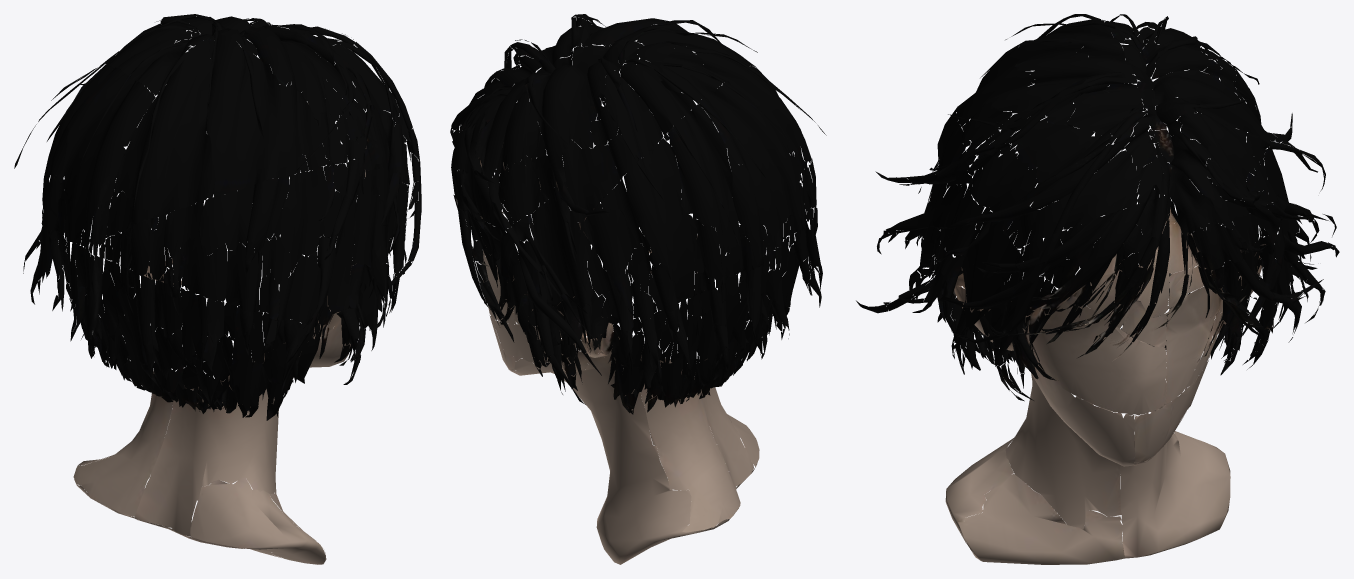
The model's file is hair_ain.glb.
3 views of the same model, side by side, from view 1: azimuth 30°, elevation 25°; view 2: azimuth 150°, elevation 25°; view 3: azimuth 270°, elevation 25° (orthographic). The views are drawn at different scales.
Visible parts, largest first — view 1: tripo_node_cf9c0253-2495-4ec7-a571-8245609c46e0; view 2: tripo_node_cf9c0253-2495-4ec7-a571-8245609c46e0; view 3: tripo_node_cf9c0253-2495-4ec7-a571-8245609c46e0.
Part boxes in pixels (x1,y1,x2,y2): tripo_node_cf9c0253-2495-4ec7-a571-8245609c46e0: (14, 14, 421, 564); tripo_node_cf9c0253-2495-4ec7-a571-8245609c46e0: (450, 14, 826, 564); tripo_node_cf9c0253-2495-4ec7-a571-8245609c46e0: (856, 14, 1339, 564).
Size of the model in its own units: 0.6918 by 0.9788 by 0.8354.
1 material, 1 textured.
